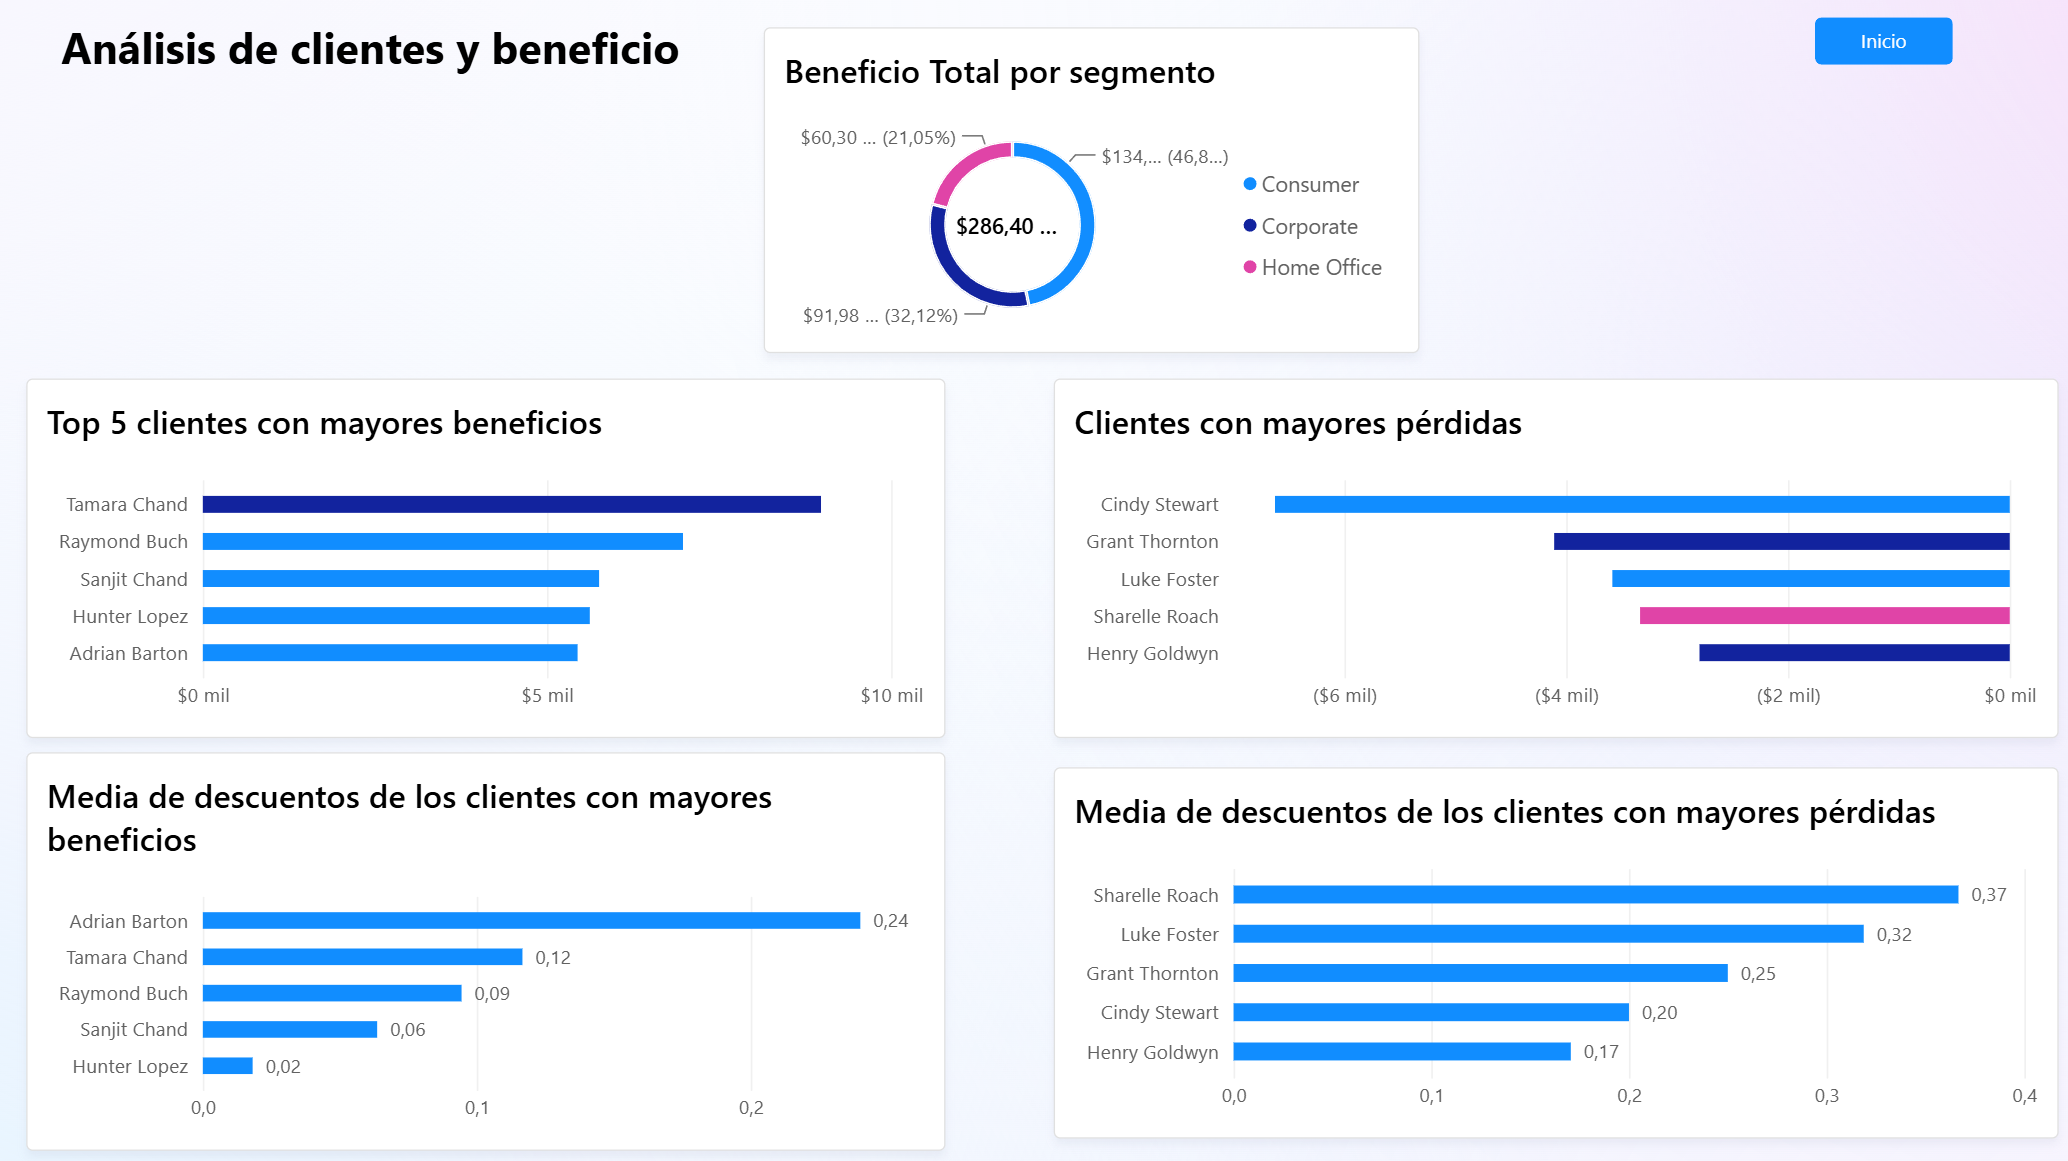

The dashboard page shown, as its layout file describes it:
{"tool":"powerbi","page":{"name":"Análisis de clientes y beneficio","canvas":[1280,720],"ordinal":3},"visuals":[{"type":"donutChart","title":"Beneficio Total por segmento","fields":{"Category":["Sample - Superstore.Segment"],"Y":["Sample - Superstore._Total_Profit"]},"box":[474,19.5,404,201.1],"z":0},{"type":"barChart","title":"Clientes con mayores pérdidas","fields":{"Y":["Sample - Superstore._Total_Profit"],"Category":["Sample - Superstore.Customer Name"],"Series":["Sample - Superstore.Segment"]},"box":[652.1,235.7,619.3,221.5],"z":1000},{"type":"barChart","title":"Top 5 clientes con mayores beneficios","fields":{"Y":["Sample - Superstore._Total_Profit"],"Category":["Sample - Superstore.Customer Name"],"Series":["Sample - Superstore.Segment"]},"box":[19.5,235.7,566.1,221.5],"z":2000},{"type":"barChart","title":"Media de descuentos de los clientes con mayores pérdidas","fields":{"Category":["Sample - Superstore.Customer Name"],"Y":["Avg(Sample - Superstore.Discount)"]},"box":[652.1,474.9,619.3,228.6],"z":3000},{"type":"barChart","title":"Media de descuentos de los clientes con mayores beneficios","fields":{"Category":["Sample - Superstore.Customer Name"],"Y":["Avg(Sample - Superstore.Discount)"]},"box":[19.5,466,566.1,245.4],"z":4000},{"type":"textbox","box":[40.8,13.3,419.9,47.8],"z":5000},{"type":"actionButton","box":[1121.6,13.3,85.1,29.2],"z":6000}]}

Visuals, with their boxes in screenshot pixels (x1, y1, x2, y2), scaled from the page's 1280x720 canvas onto the 2068x1161 screenshot:
"Beneficio Total por segmento" donutChart: l=766, t=31, r=1419, b=356
"Clientes con mayores pérdidas" barChart: l=1054, t=380, r=2054, b=737
"Top 5 clientes con mayores beneficios" barChart: l=32, t=380, r=946, b=737
"Media de descuentos de los clientes con mayores pérdidas" barChart: l=1054, t=766, r=2054, b=1134
"Media de descuentos de los clientes con mayores beneficios" barChart: l=32, t=751, r=946, b=1147
textbox: l=66, t=21, r=744, b=99
actionButton: l=1812, t=21, r=1950, b=69
